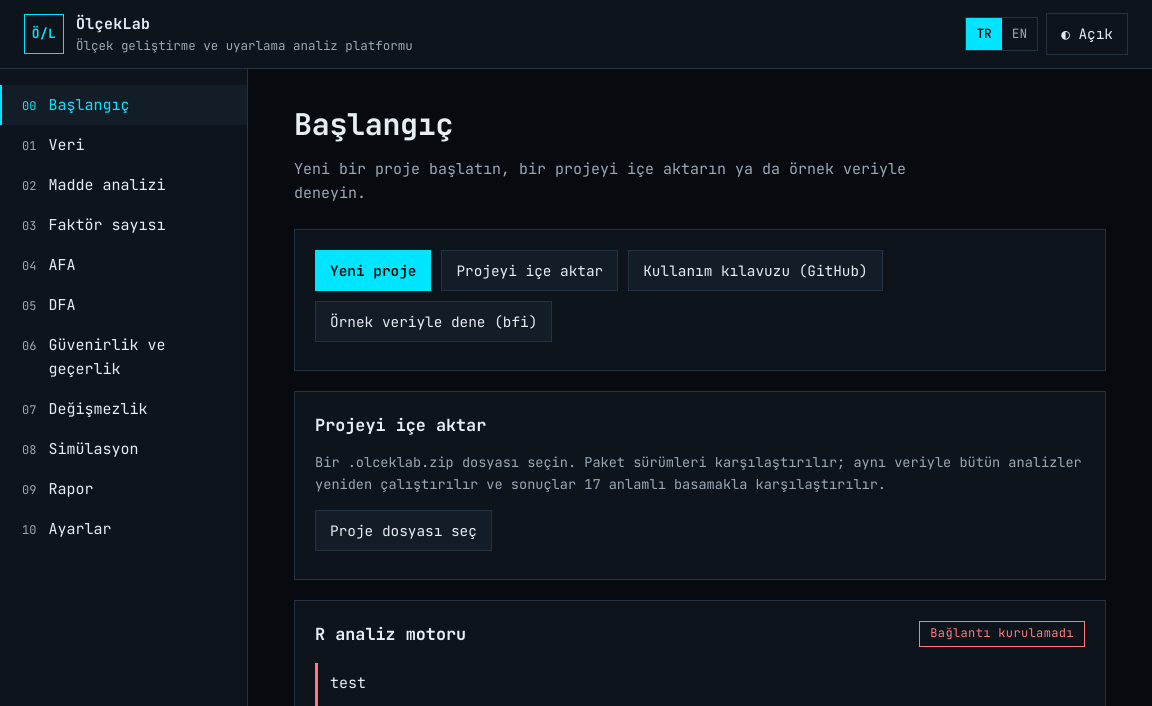
it: SPEC §9 rotaları › gezinme bağlantıları her sayfaya gider
The width and height of the screenshot is (1152, 706).
What coordinates should you click on to do the following:
click the link "07 Değişmezlik"
I would click on:
 (85, 409)
Its box is top-left (22, 399), bottom-right (147, 419).
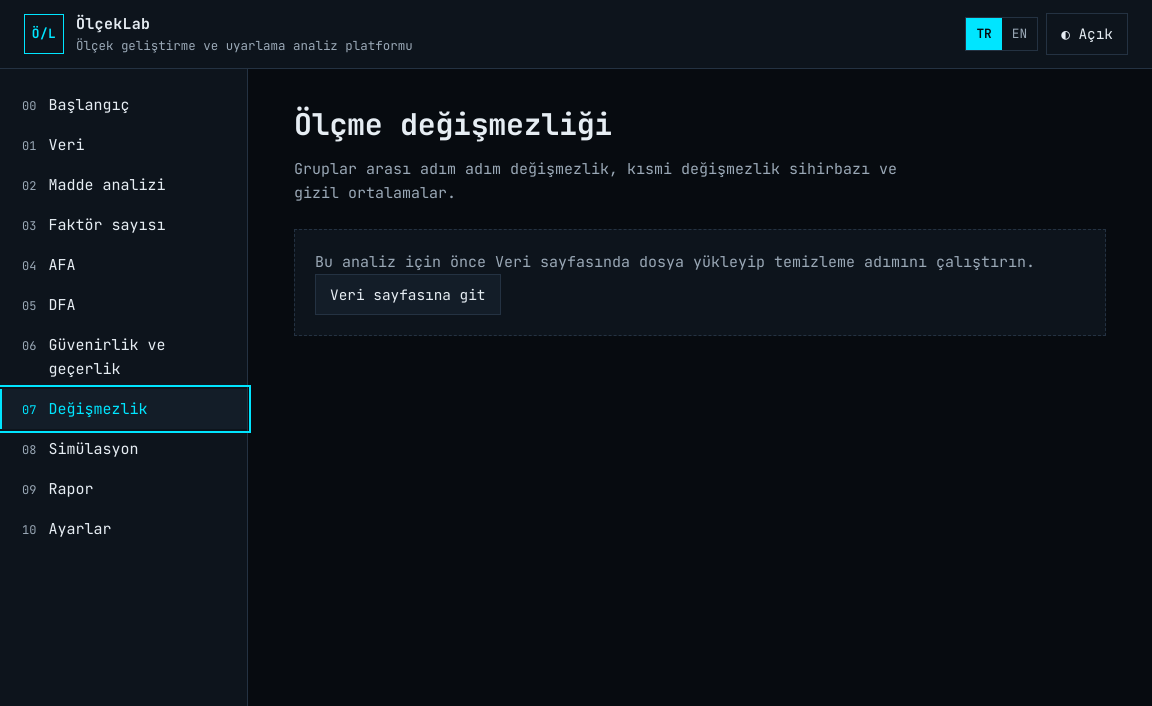
Result: the heading "Ölçme değişmezliği" is shown at top-left (294, 101), bottom-right (612, 149)
